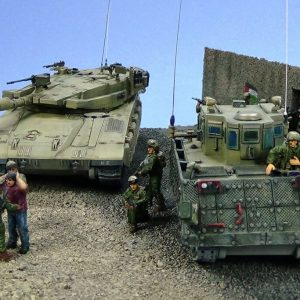Battle Tank: (1, 59, 151, 180)
